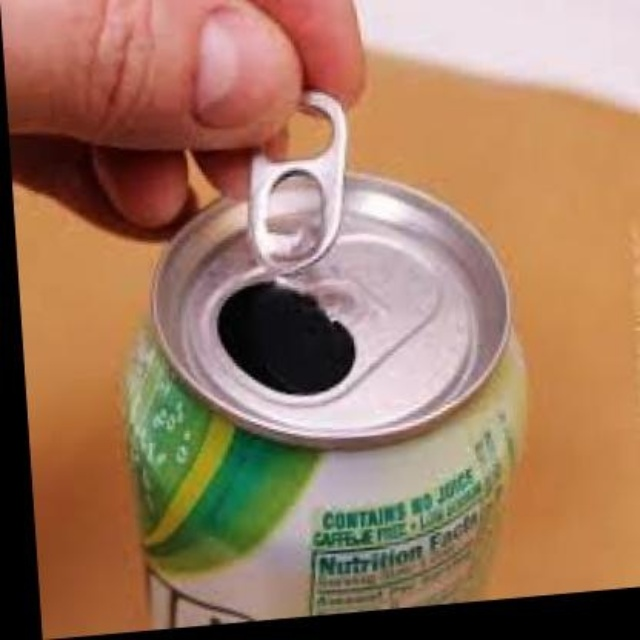trash: (126, 92, 523, 623)
